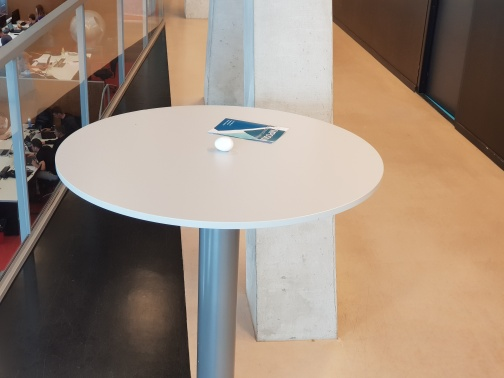egg: (213, 136, 235, 152)
